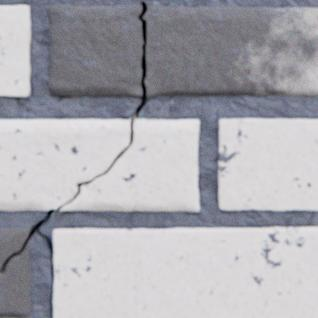brick: (54, 226, 317, 317), (218, 118, 317, 209), (0, 5, 30, 95)
broken_brick: (143, 6, 317, 95), (60, 119, 198, 210), (0, 119, 130, 209), (49, 5, 143, 96), (0, 238, 31, 316), (0, 226, 30, 266)
crack: (0, 1, 147, 317)
